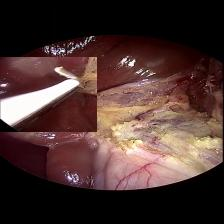Hook: (0, 56, 97, 131)
